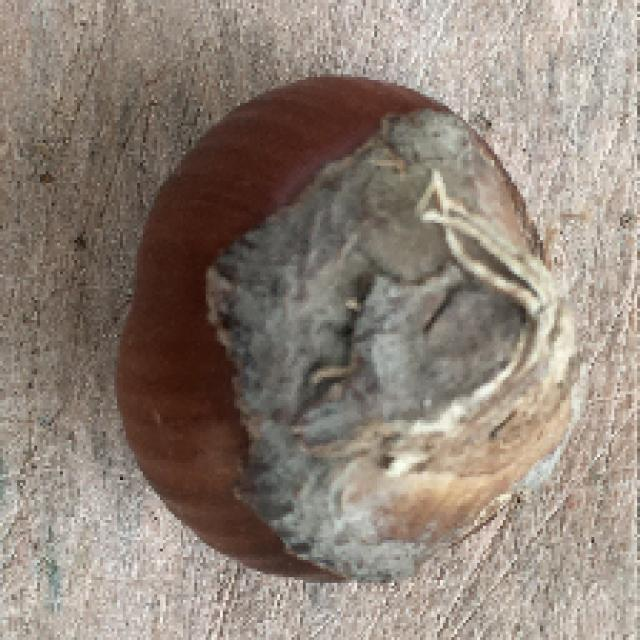damagedHazelnut: (110, 71, 586, 578)
